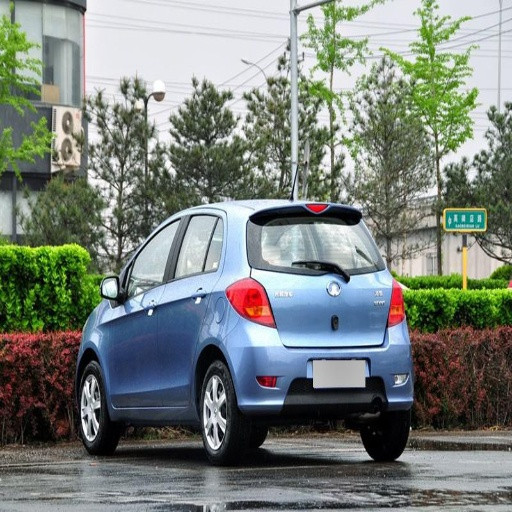back_bumper: (223, 316, 413, 417)
back_glass: (249, 211, 382, 274)
back_left_door: (159, 211, 218, 405)
trunk: (266, 274, 393, 348)
